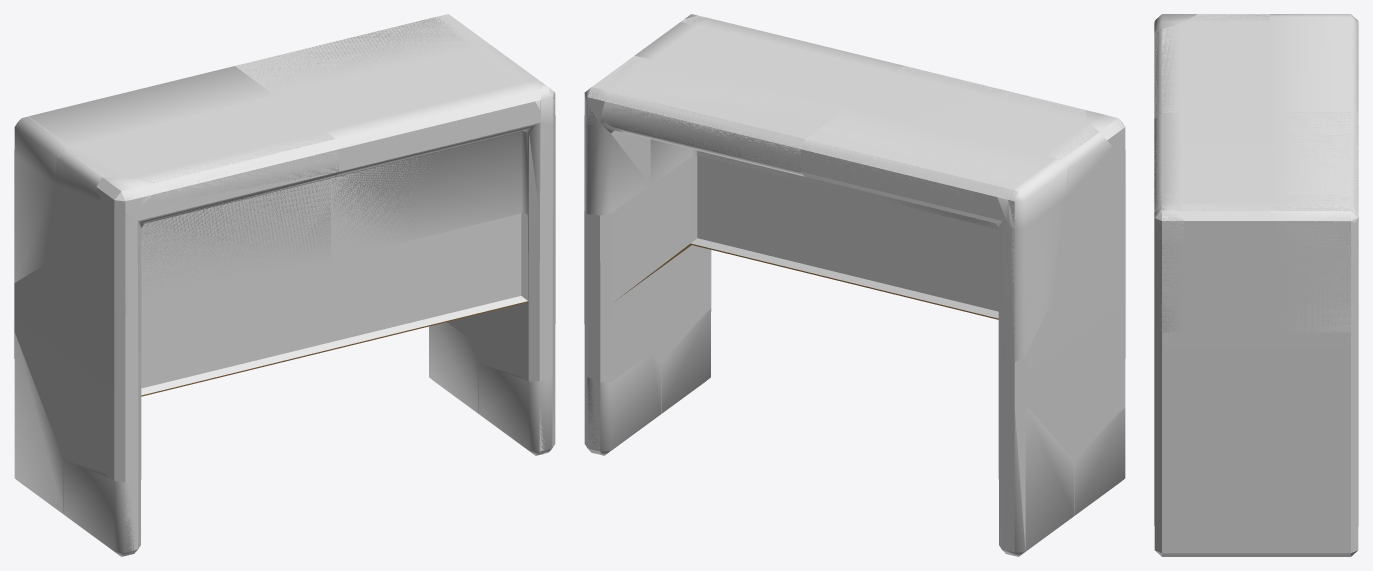
The model's file is meja.fbx.
The picture shows the model from 3 angles, left to right: view 1: azimuth 30°, elevation 25°; view 2: azimuth 150°, elevation 25°; view 3: azimuth 270°, elevation 25°; orthographic projection. The views are drawn at different scales.
Parts seen in each view (by area): view 1: Cube.007, Cube.007_cell.020, Cube.007_cell.004, Cube.007_cell.032, Cube.007_cell.026, Cube.007_cell.005, Cube.007_cell.034, Cube.007_cell.022, Cube.007_cell.029, Cube.007_cell.021, Cube.007_cell.023, Cube.007_cell.001 (+2 smaller); view 2: Cube.007, Cube.007_cell.032, Cube.007_cell.005, Cube.007_cell.034, Cube.007_cell.026, Cube.007_cell.022, Cube.007_cell.029, Cube.007_cell.001, Cube.007_cell.027, Cube.007_cell.023, Cube.007_cell.021, Cube.007_cell.020 (+2 smaller); view 3: Cube.007, Cube.007_cell.034, Cube.007_cell.026, Cube.007_cell.005, Cube.007_cell.032, Cube.007_cell.027, Cube.007_cell.020, Cube.007_cell.004, Cube.007_cell.035, Cube.007_cell.028, Cube.007_cell.022.
Boxes of the visible parts, x1,y1,x2,y2 form: Cube.007: (14,14,555,556); Cube.007_cell.020: (325,79,540,256); Cube.007_cell.004: (134,132,338,313); Cube.007_cell.032: (44,97,323,306); Cube.007_cell.026: (278,45,537,130); Cube.007_cell.005: (28,66,276,147); Cube.007_cell.034: (242,16,475,96); Cube.007_cell.022: (14,116,69,282); Cube.007_cell.029: (14,333,68,518); Cube.007_cell.021: (479,363,552,455); Cube.007_cell.023: (63,460,135,556); Cube.007_cell.001: (429,322,481,416); Cube.007: (584,15,1125,556); Cube.007_cell.032: (852,74,1113,293); Cube.007_cell.005: (801,108,1053,357); Cube.007_cell.034: (584,57,845,176); Cube.007_cell.026: (635,22,893,107); Cube.007_cell.022: (1008,158,1068,361); Cube.007_cell.029: (1001,405,1074,556); Cube.007_cell.001: (587,352,660,455); Cube.007_cell.027: (584,96,649,215); Cube.007_cell.023: (1071,408,1125,518); Cube.007_cell.021: (658,309,711,416); Cube.007_cell.020: (682,16,904,73); Cube.007: (1154,14,1358,556); Cube.007_cell.034: (1270,112,1358,223); Cube.007_cell.026: (1182,112,1269,210); Cube.007_cell.005: (1270,17,1358,118); Cube.007_cell.032: (1182,14,1269,112); Cube.007_cell.027: (1272,223,1358,332); Cube.007_cell.020: (1154,112,1181,211); Cube.007_cell.004: (1154,25,1181,117); Cube.007_cell.035: (1154,207,1184,332); Cube.007_cell.028: (1154,14,1197,32); Cube.007_cell.022: (1269,14,1358,23).
Bounding box in the file's own units: 68.75 × 128 × 162.
